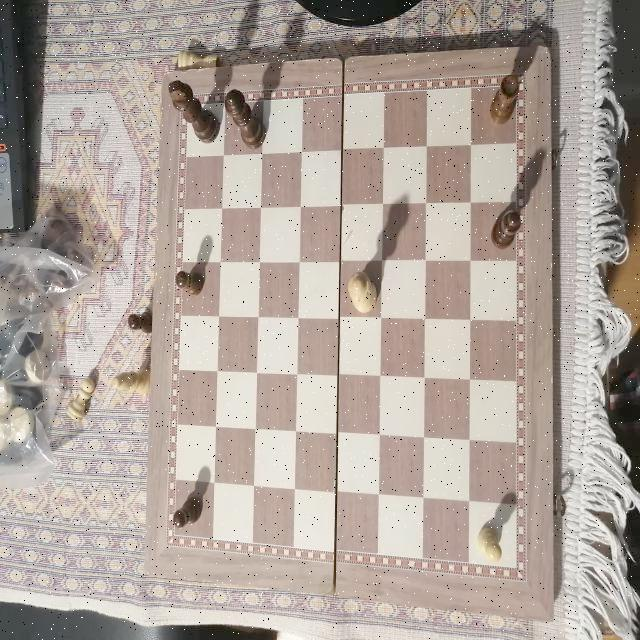corners: (538, 605, 562, 629), (138, 564, 160, 588), (532, 39, 556, 59), (156, 68, 174, 88)
